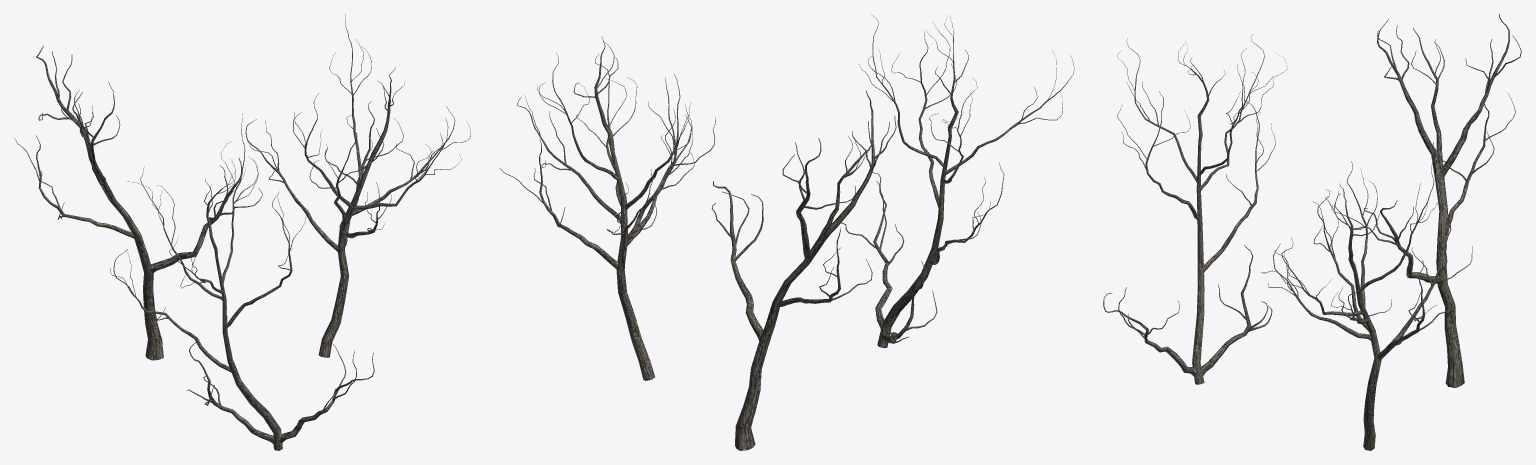
File: Halloween Tree-S2.fbx
The picture shows the model from 3 angles, left to right: view 1: azimuth 30°, elevation 25°; view 2: azimuth 150°, elevation 25°; view 3: azimuth 270°, elevation 25°; orthographic projection. The views are drawn at different scales.
Visible parts, largest first — view 1: Halloween_Tree_S2_1, Halloween_Tree_S2_2, Halloween_Tree_S2_3; view 2: Halloween_Tree_S2_1, Halloween_Tree_S2_3, Halloween_Tree_S2_2; view 3: Halloween_Tree_S2_3, Halloween_Tree_S2_2, Halloween_Tree_S2_1.
Boxes of the visible parts, x1,y1,x2,y2 form: Halloween_Tree_S2_1: (245, 14, 470, 357); Halloween_Tree_S2_2: (110, 113, 374, 450); Halloween_Tree_S2_3: (14, 45, 262, 360); Halloween_Tree_S2_1: (499, 36, 715, 380); Halloween_Tree_S2_3: (711, 91, 896, 450); Halloween_Tree_S2_2: (841, 14, 1074, 348); Halloween_Tree_S2_3: (1353, 14, 1521, 387); Halloween_Tree_S2_2: (1103, 34, 1287, 384); Halloween_Tree_S2_1: (1261, 160, 1472, 450).
Bounding box in the file's own units: 19.06 × 14.75 × 16.96.
1 material, 1 textured.
